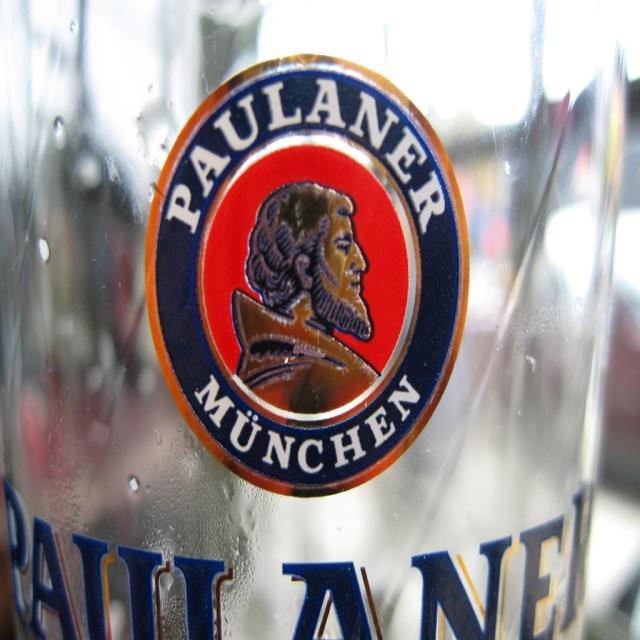paulaner: (144, 57, 471, 501)
